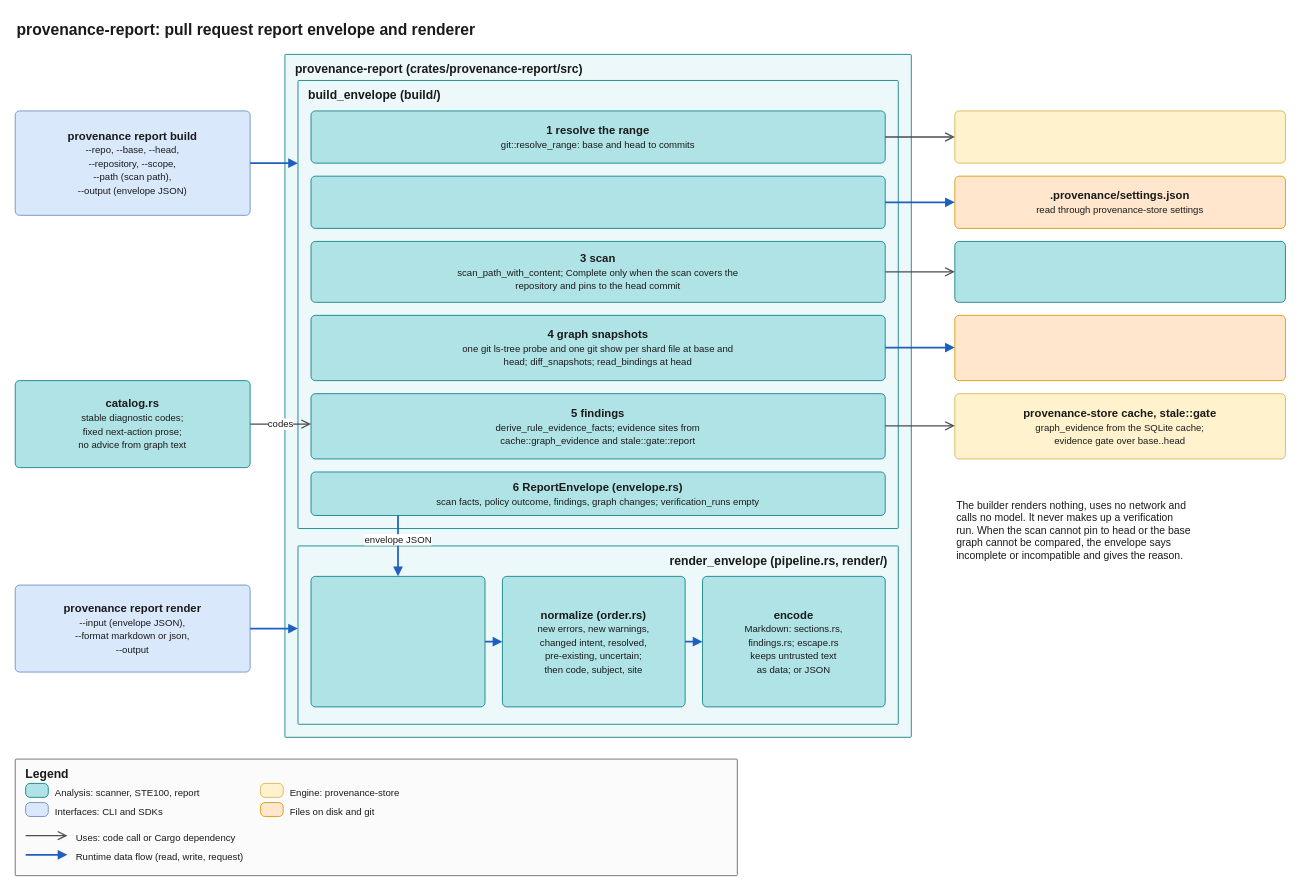
Some shapes in this 1301 by 891 pixel diagram are drawn without their labels. Here are the shapes that lost their labels. From the top down, the centre of each, then its label:
the point at 1119,136: provenance-store stale::git resolve_range, revision_files, changed_files
the point at 597,201: 2 policy Settings::load: coverage.binding_findings sets the policy mode
the point at 1119,271: provenance-scanner diagram 08
the point at 1119,348: Git repository commits; shard files at base and head
the point at 397,641: validate parse JSON; envelope.validate; refuse duplicate findings
